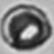correct: (0, 2, 52, 52)
